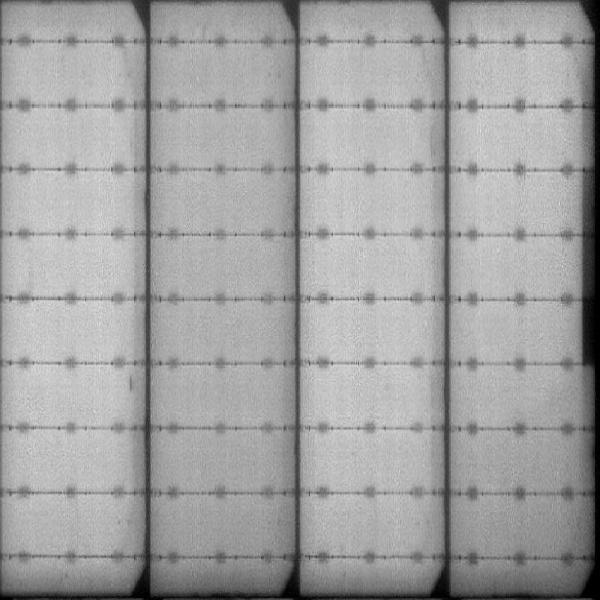black_border: (575, 158, 598, 368)
